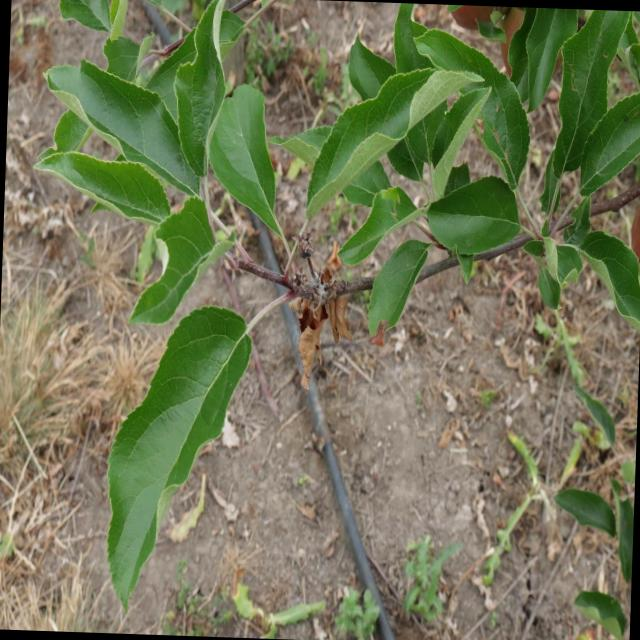-FireBlight-: (296, 250, 351, 372)
